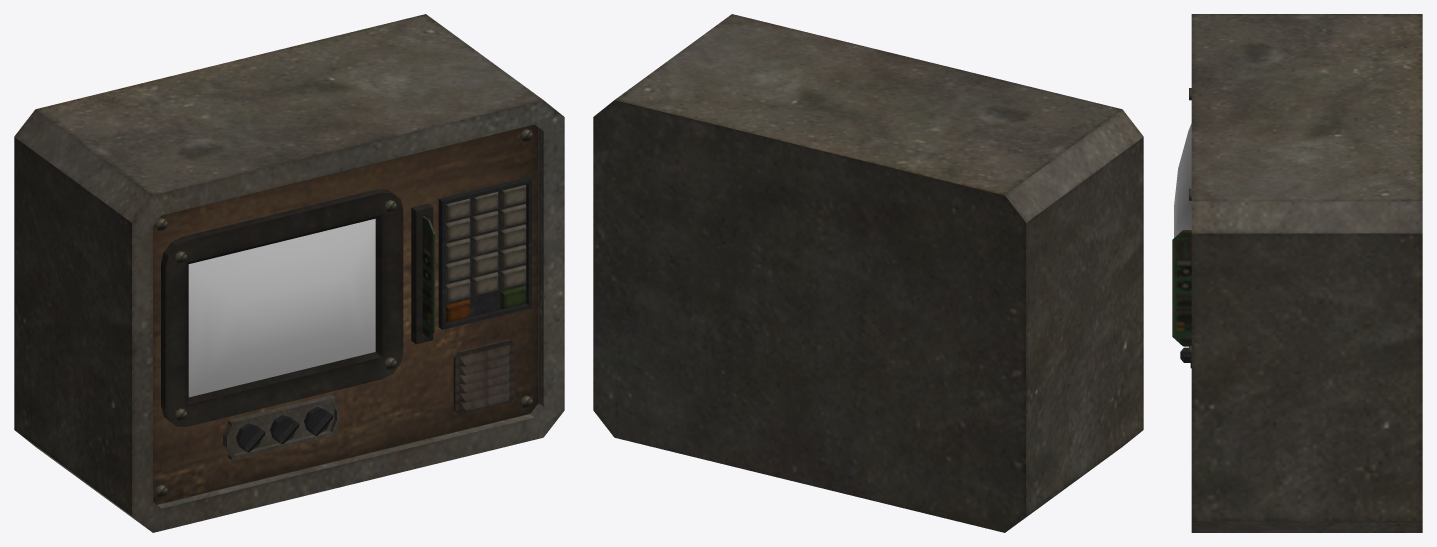
File: computer_terminal_etx_1.dae
3 renders of one model, left to right at view 1: azimuth 30°, elevation 25°; view 2: azimuth 150°, elevation 25°; view 3: azimuth 270°, elevation 25°, orthographic.
Parts seen in each view (by area): view 1: computer_terminal_etx_1, computer_terminal_etx_1_round_screen, circuit_board_etx_1_child; view 2: computer_terminal_etx_1; view 3: computer_terminal_etx_1, circuit_board_etx_1_child, computer_terminal_etx_1_round_screen.
Boxes of the visible parts, x1,y1,x2,y2 form: computer_terminal_etx_1: (14, 14, 564, 532); computer_terminal_etx_1_round_screen: (188, 218, 375, 397); circuit_board_etx_1_child: (422, 216, 435, 337); computer_terminal_etx_1: (593, 14, 1143, 532); computer_terminal_etx_1: (1180, 14, 1422, 532); circuit_board_etx_1_child: (1172, 230, 1191, 346); computer_terminal_etx_1_round_screen: (1174, 123, 1191, 237).
Bounding box in the file's own units: 0.918 × 0.468 × 0.684.
